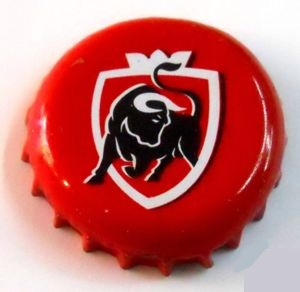jupiler: (19, 15, 291, 280)
